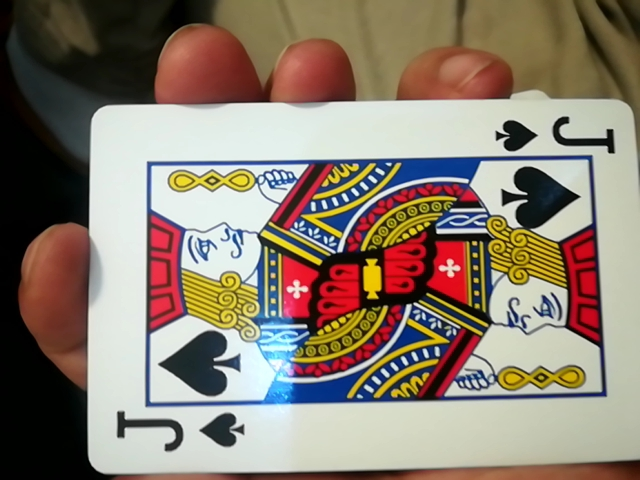ht j: (69, 93, 637, 477)
